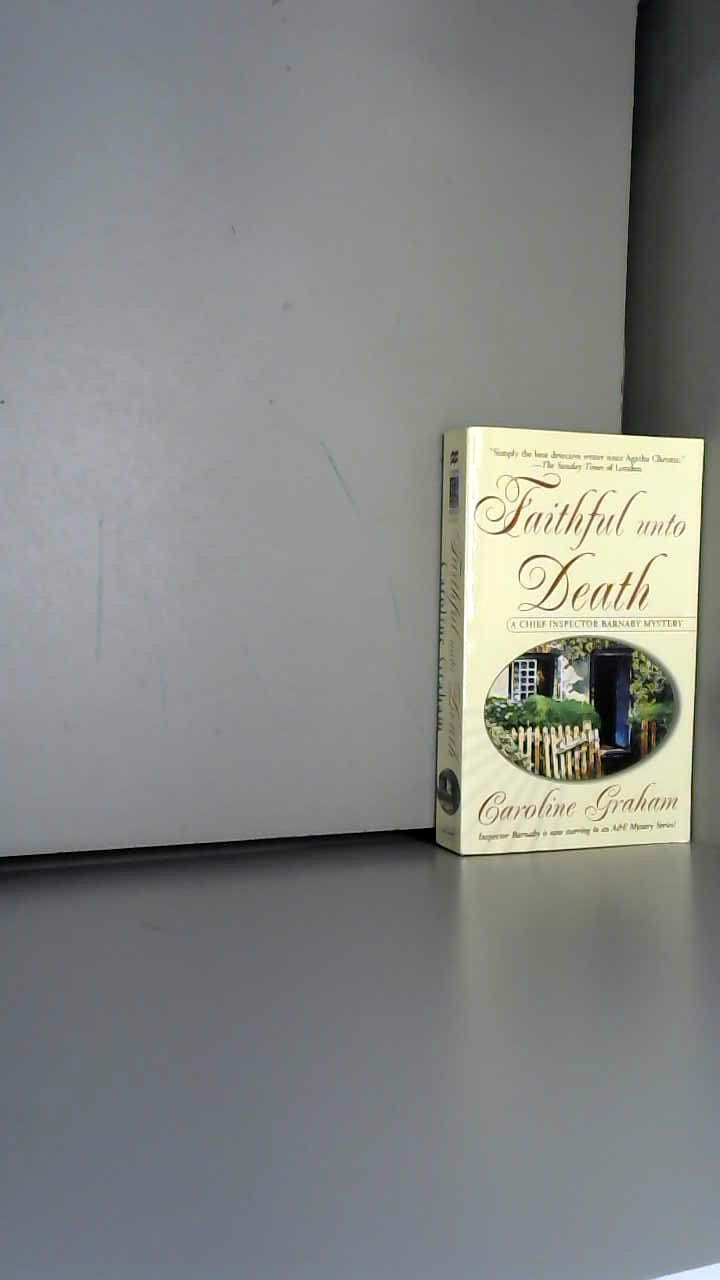book: (430, 400, 717, 930)
